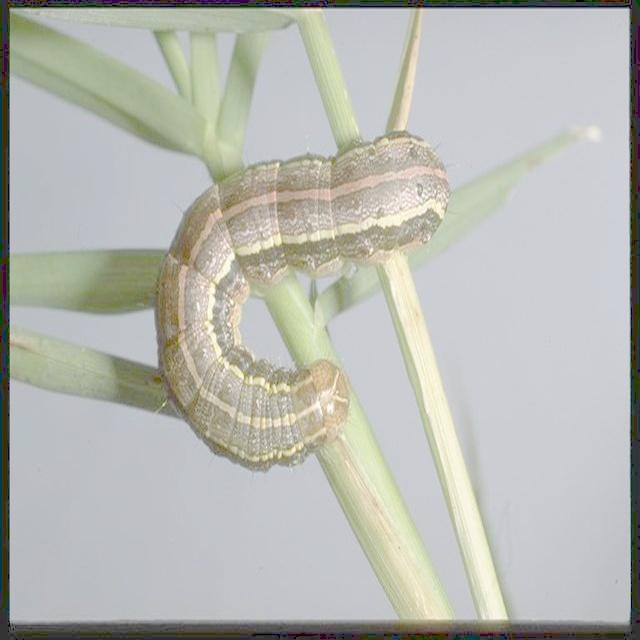Plaga: (153, 129, 456, 475)
